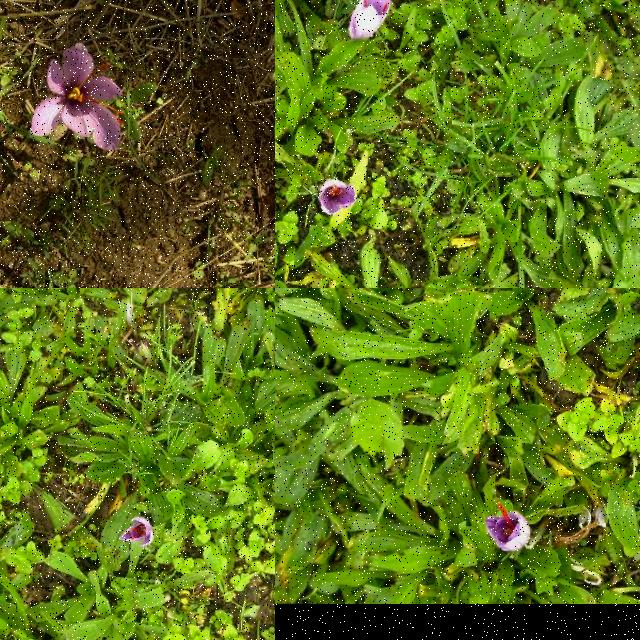flower: (30, 44, 124, 152), (486, 501, 532, 555), (348, 0, 392, 38), (319, 178, 357, 216), (120, 518, 154, 546)
